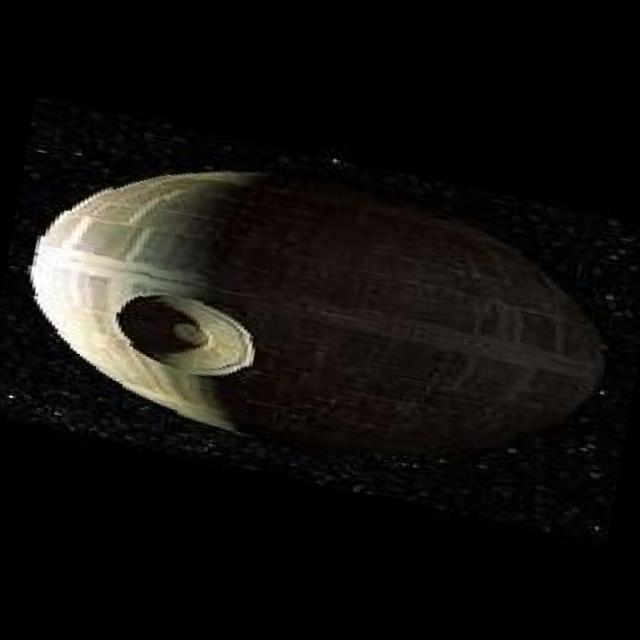Death Star: (3, 122, 636, 503)
